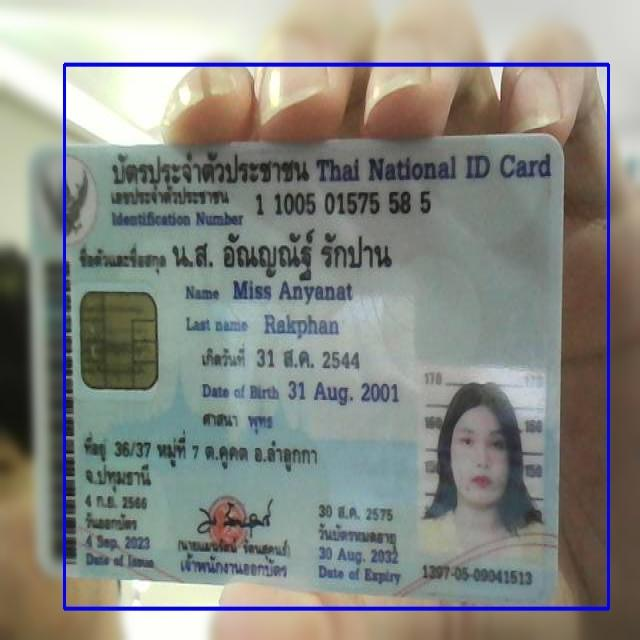Address_th: (80, 424, 328, 496)
Date_of_Birth: (284, 374, 402, 411)
Date_of_Expiry: (314, 543, 404, 567)
Date_of_Issue: (82, 530, 161, 554)
First_Name: (228, 275, 355, 308)
ID_Number: (250, 186, 440, 222)
Image: (412, 363, 549, 561)
Last_Name: (261, 311, 343, 343)
Thai_Name: (166, 228, 398, 282)
